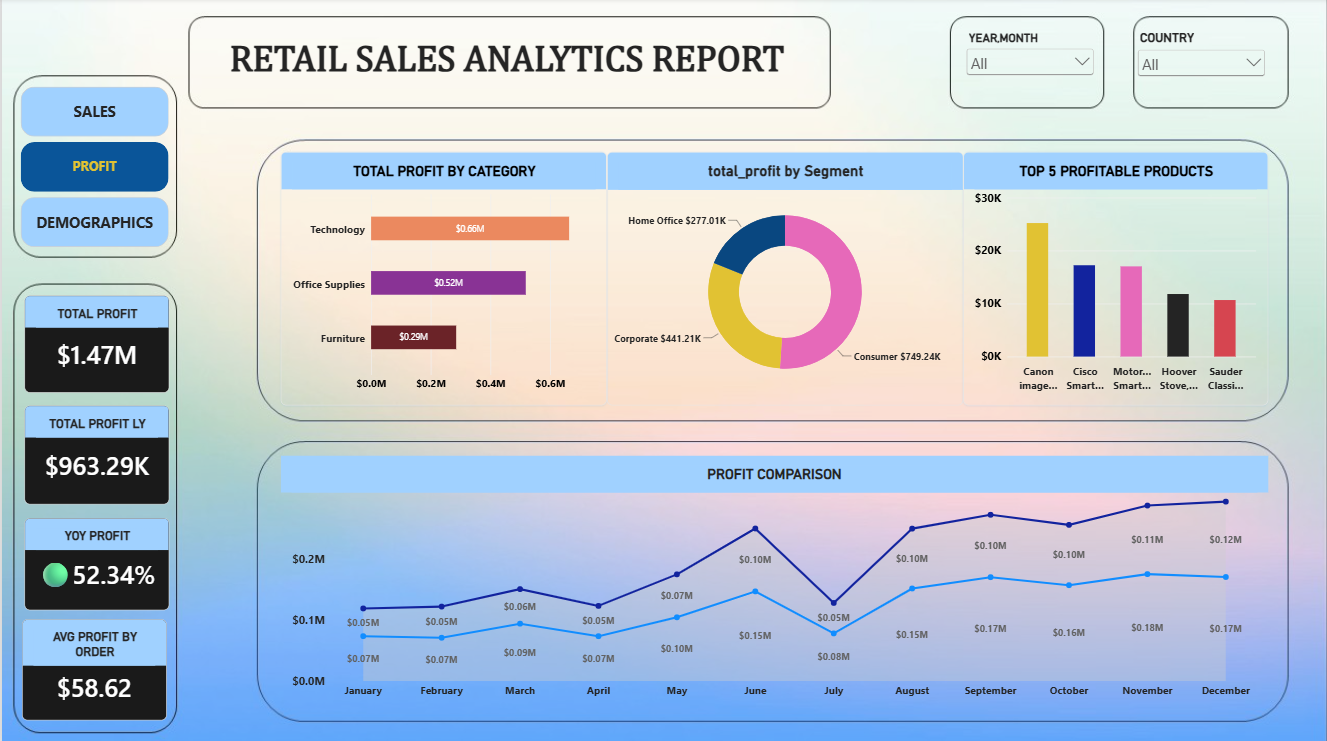

What the dashboard file says about the page in this screenshot:
{"tool":"powerbi","page":{"name":"PROFIT","canvas":[1920,1080],"ordinal":1},"visuals":[{"type":"pageNavigator","box":[26.8,127.6,214.1,234.6],"z":0},{"type":"textbox","box":[27,385.5,214,235],"z":1000},{"type":"textbox","box":[27.1,59.7,1407.9,94.1],"z":2000},{"type":"slicer","fields":{"Values":["Date_table.Date.Variation.Date Hierarchy.Year","Date_table.Date.Variation.Date Hierarchy.Month"]},"box":[1391.6,47.1,193.6,121.2],"z":3000},{"type":"slicer","fields":{"Values":["location_table.Country"]},"box":[1639.6,47.1,194,150],"z":4000},{"type":"card","title":"TOTAL PROFIT","fields":{"Values":["calculated_table.total_profit"]},"box":[32.6,430.7,209.9,141.2],"z":5000},{"type":"card","title":"TOTAL PROFIT LY","fields":{"Values":["calculated_table.total_profit_ly"]},"box":[32.6,589.9,209.9,143],"z":6000},{"type":"card","title":"YOY PROFIT","fields":{"Values":["calculated_table.yoy_profit"]},"box":[32.6,752.8,209.9,133.9],"z":7000},{"type":"card","title":"AVG PROFIT BY ORDER","fields":{"Values":["calculated_table.avg_profit_by_order"]},"box":[29,899.4,209.9,146.1],"z":8000},{"type":"stackedAreaChart","title":"PROFIT COMPARISON","fields":{"Category":["Date_table.Date.Variation.Date Hierarchy.Month"],"Y":["calculated_table.total_profit","calculated_table.total_profit_ly"]},"box":[403.6,662.3,1429.6,371],"z":9000},{"type":"clusteredBarChart","title":"TOTAL PROFIT BY CATEGORY","fields":{"Category":["product_table.Category"],"Y":["calculated_table.total_profit"]},"box":[403.6,222.6,472.3,367.4],"z":10000},{"type":"donutChart","fields":{"Category":["customer_table.Segment"],"Y":["calculated_table.total_profit"]},"box":[875.9,222.6,515.8,367.4],"z":11000},{"type":"clusteredColumnChart","title":"TOP 5 PROFITABLE PRODUCTS","fields":{"Category":["product_table.Product Name"],"Y":["calculated_table.total_profit"]},"box":[1391.6,222.6,441.6,367.4],"z":12000}]}

Visuals, with their boxes in screenshot pixels (x1, y1, x2, y2), scaled from the page's 1920x1080 canvas onto the 1327x741 screenshot:
pageNavigator: <region>19, 88, 166, 249</region>
textbox: <region>19, 264, 167, 426</region>
textbox: <region>19, 41, 992, 106</region>
slicer - Date_table.Date.Variation.Date Hierarchy.Year x Date_table.Date.Variation.Date Hierarchy.Month: <region>962, 32, 1096, 115</region>
slicer - location_table.Country: <region>1133, 32, 1267, 135</region>
"TOTAL PROFIT" card: <region>23, 296, 168, 392</region>
"TOTAL PROFIT LY" card: <region>23, 405, 168, 503</region>
"YOY PROFIT" card: <region>23, 517, 168, 608</region>
"AVG PROFIT BY ORDER" card: <region>20, 617, 165, 717</region>
"PROFIT COMPARISON" stackedAreaChart: <region>279, 454, 1267, 709</region>
"TOTAL PROFIT BY CATEGORY" clusteredBarChart: <region>279, 153, 605, 405</region>
donutChart - customer_table.Segment x calculated_table.total_profit: <region>605, 153, 962, 405</region>
"TOP 5 PROFITABLE PRODUCTS" clusteredColumnChart: <region>962, 153, 1267, 405</region>
